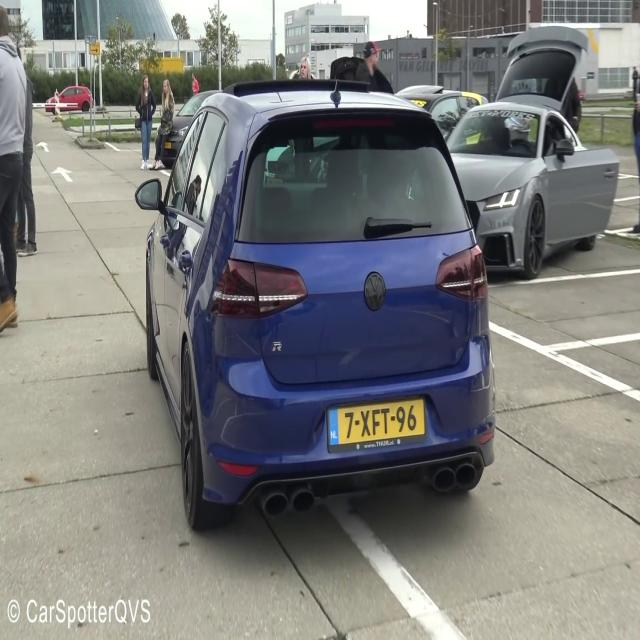num_plate: (325, 396, 428, 446)
